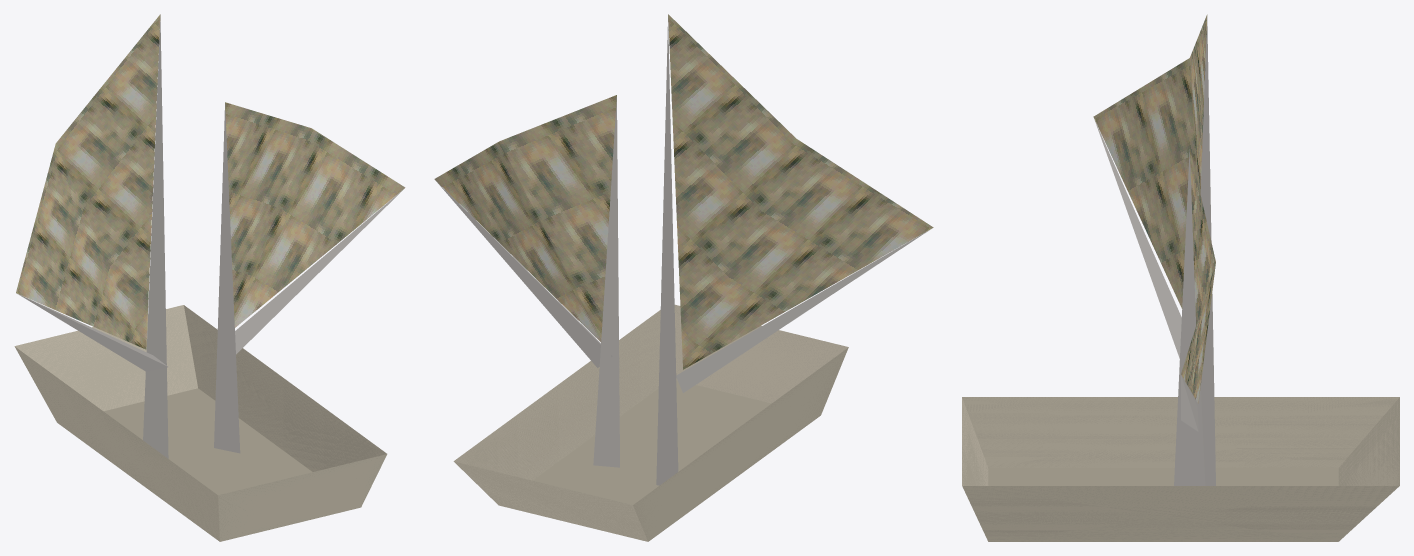
Rendered from uvmd-0072.glb.
3 views of the same model, side by side, from view 1: azimuth 30°, elevation 25°; view 2: azimuth 150°, elevation 25°; view 3: azimuth 270°, elevation 25° (orthographic). The views are drawn at different scales.
Parts seen in each view (by area): view 1: uvmd-0072; view 2: uvmd-0072; view 3: uvmd-0072.
Part boxes in pixels (x1=…): uvmd-0072: x1=14, y1=14, x2=405, y2=541; uvmd-0072: x1=434, y1=14, x2=933, y2=541; uvmd-0072: x1=962, y1=14, x2=1399, y2=541.
Bounding box in the file's own units: 61 × 60 × 50.
2 materials, 2 textured.
